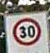limite 30: (11, 16, 40, 46)
